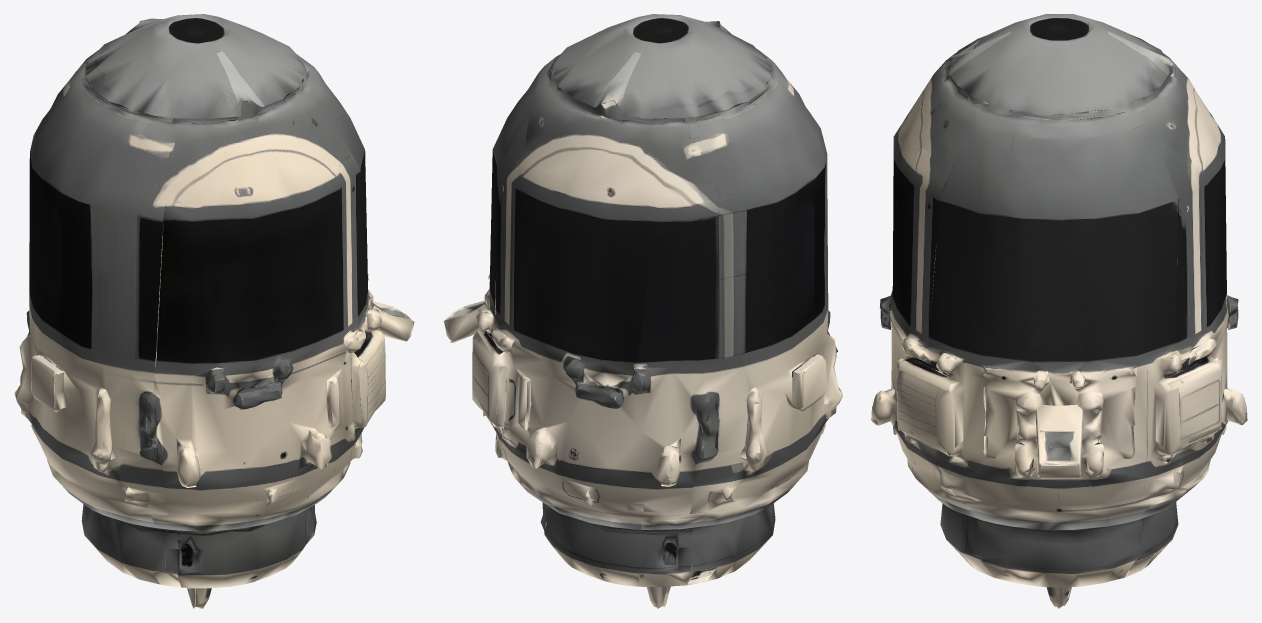
The model's file is capsula.fbx.
3 renders of one model, left to right at view 1: azimuth 30°, elevation 25°; view 2: azimuth 150°, elevation 25°; view 3: azimuth 270°, elevation 25°, orthographic.
Visible parts, largest first — view 1: Mesh_0; view 2: Mesh_0; view 3: Mesh_0.
Boxes of the visible parts, bbox=[...] form: Mesh_0: bbox=[14, 14, 414, 608]; Mesh_0: bbox=[443, 14, 842, 608]; Mesh_0: bbox=[871, 14, 1247, 608].
Bounding box in the file's own units: 436 × 665 × 391.
1 material, 1 textured.
